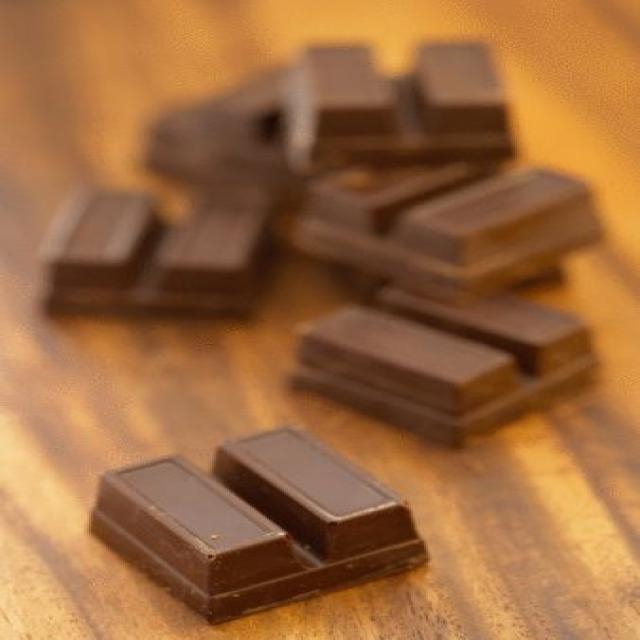Chocolate: (36, 40, 608, 449), (95, 421, 438, 626), (296, 267, 611, 452)
